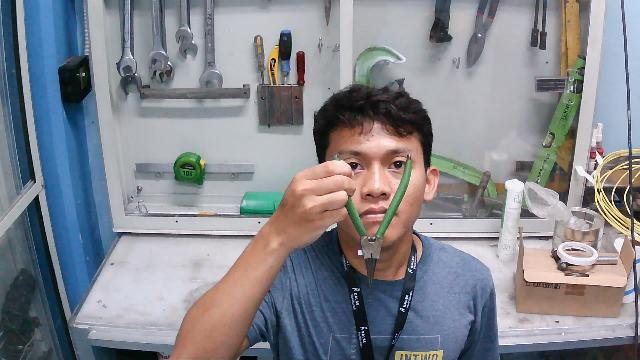tang_cucut_lancip_2: (325, 152, 420, 290)
